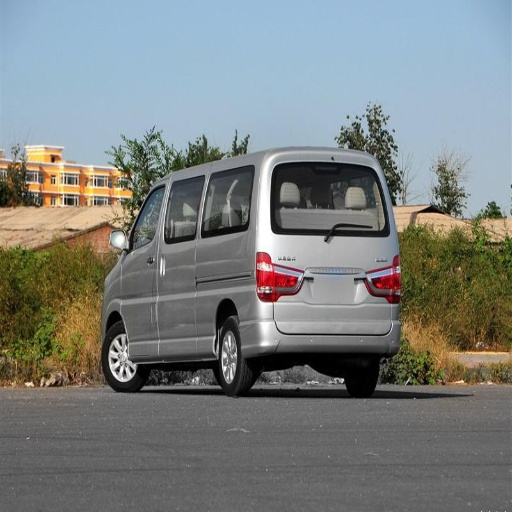back_bumper: (250, 300, 398, 354)
trunk: (153, 231, 395, 354)
